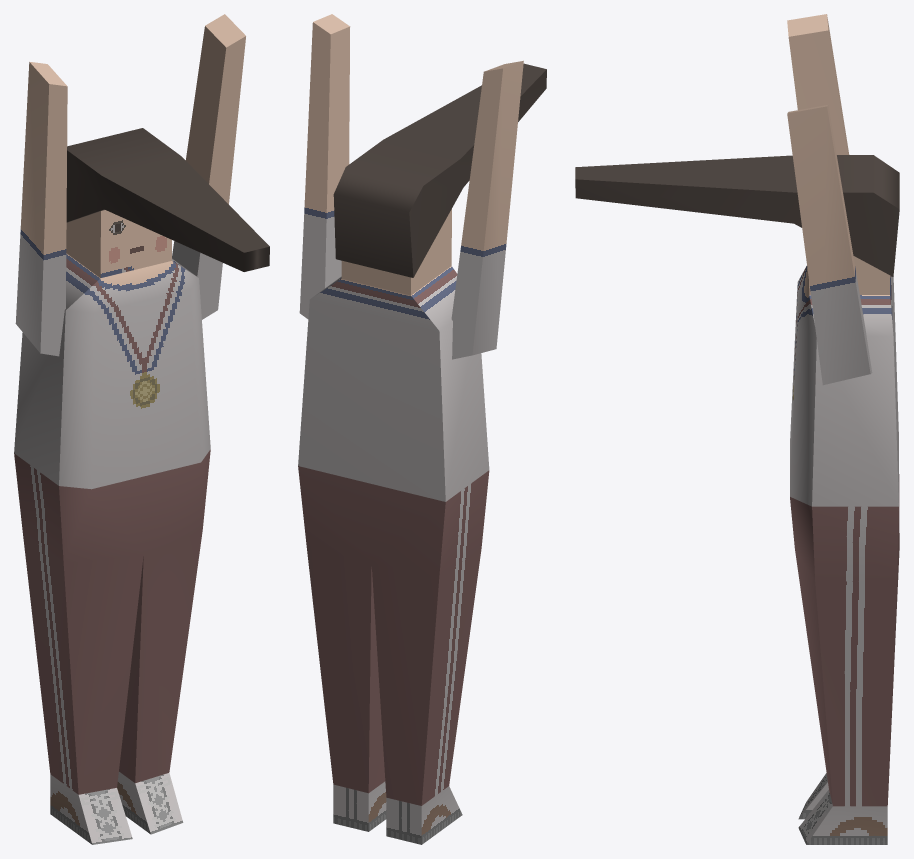
Rendered from 058b_Dangling_Boy.glb.
The picture shows the model from 3 angles, left to right: view 1: azimuth 30°, elevation 25°; view 2: azimuth 150°, elevation 25°; view 3: azimuth 270°, elevation 25°; orthographic projection. The views are drawn at different scales.
Visible parts, largest first — view 1: part_0; view 2: part_0; view 3: part_0.
Part boxes in pixels (x1=…): part_0: x1=14, y1=14, x2=269, y2=844; part_0: x1=298, y1=14, x2=546, y2=844; part_0: x1=575, y1=14, x2=899, y2=844.
Bounding box in the file's own units: 0.5255 × 2.01 × 0.7739.
Materials: 1 (1 with a texture image).
